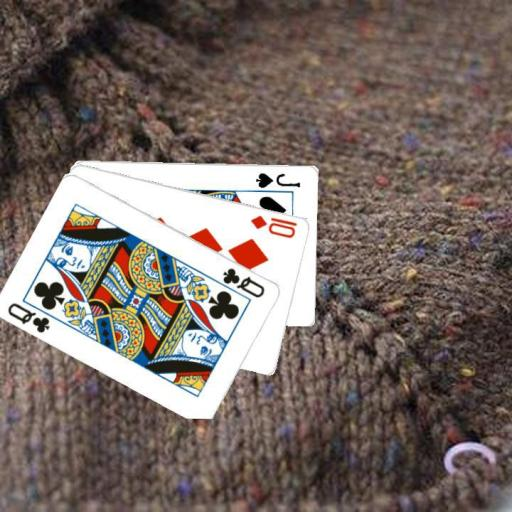10D: (248, 212, 299, 240)
JS: (253, 169, 302, 189)
QC: (4, 299, 52, 334), (220, 265, 267, 300)
